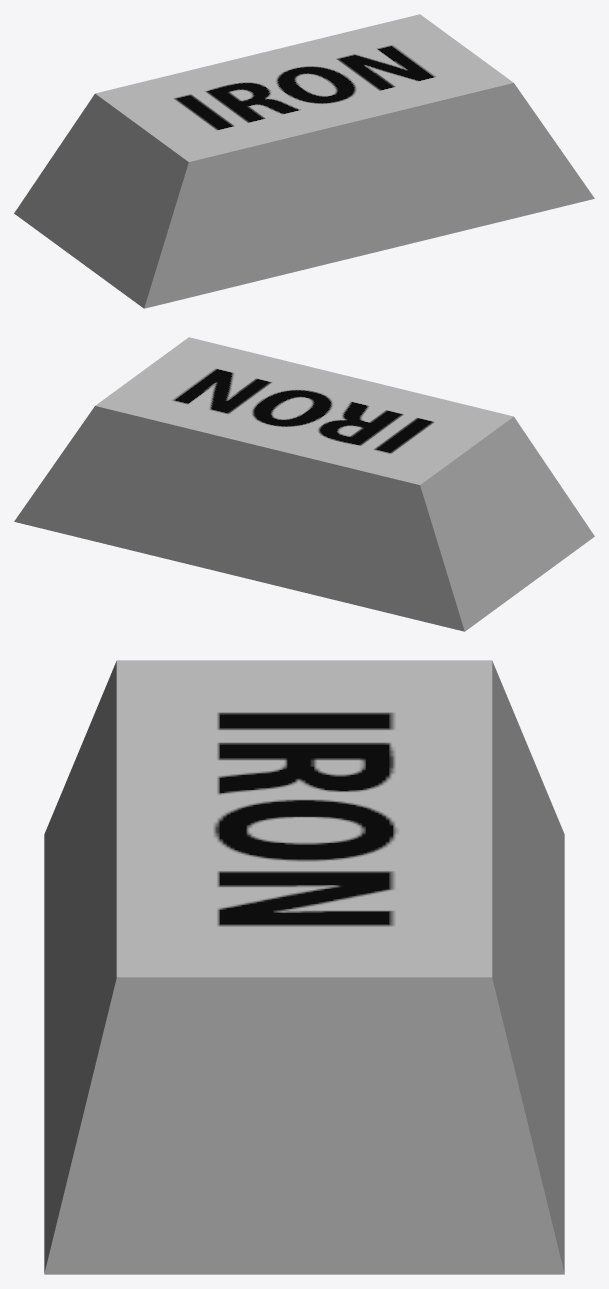
Rendered from IronIngot.FBX.
The picture shows the model from 3 angles, top to bottom: view 1: azimuth 30°, elevation 25°; view 2: azimuth 150°, elevation 25°; view 3: azimuth 270°, elevation 25°; orthographic projection. The views are drawn at different scales.
Visible parts, largest first — view 1: Box001; view 2: Box001; view 3: Box001.
Boxes of the visible parts, x1,y1,x2,y2 form: Box001: (14, 14, 594, 308); Box001: (14, 337, 594, 631); Box001: (44, 660, 564, 1274).
Bounding box in the file's own units: 280 × 69.96 × 140.
Materials: 2 (1 with a texture image).
